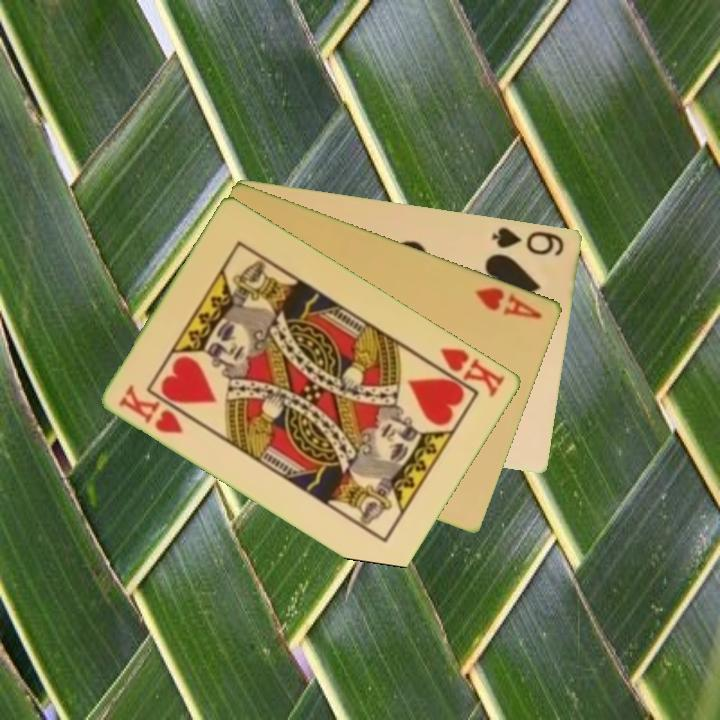6s: (488, 223, 568, 258)
Ah: (472, 283, 546, 322)
Kh: (426, 344, 509, 400), (115, 380, 187, 437)
